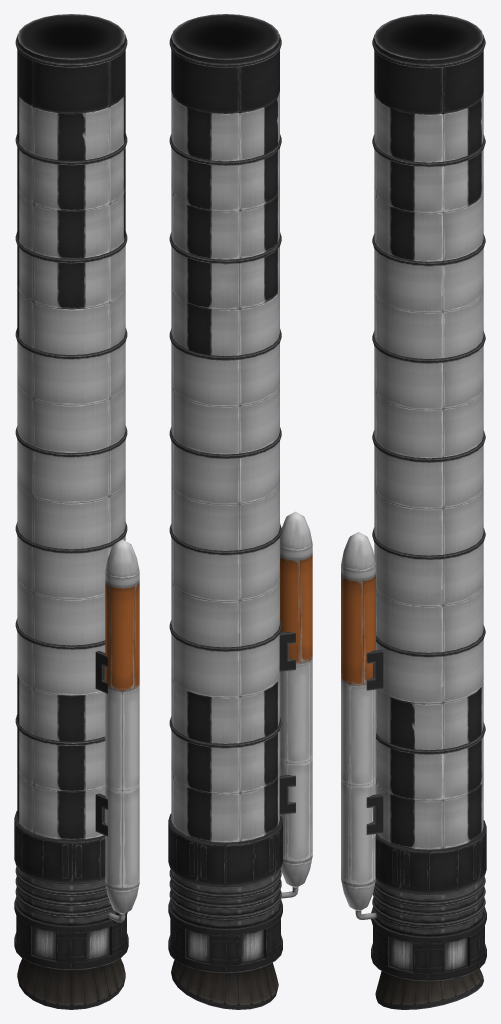
The model's file is Titan_SRB_7seg.dae.
3 views of the same model, side by side, from view 1: azimuth 90°, elevation 25°; view 2: azimuth 150°, elevation 25°; view 3: azimuth 330°, elevation 25° (orthographic).
Parts seen in each view (by area): view 1: TVC_Tank, BellCasing, Booster_Segment, Booster_Segment7, Booster_Segment1, Booster_Segment6, Booster_Segment2, Booster_Segment3, Booster_Segment5, Booster_Segment4, Cap, Nozzle (+12 smaller); view 2: BellCasing, Booster_Segment, TVC_Tank, Booster_Segment5, Booster_Segment7, Booster_Segment1, Booster_Segment4, Booster_Segment2, Booster_Segment6, Booster_Segment3, Cap, Nozzle (+12 smaller); view 3: BellCasing, TVC_Tank, Booster_Segment, Booster_Segment7, Booster_Segment1, Booster_Segment2, Booster_Segment6, Booster_Segment3, Booster_Segment5, Booster_Segment4, Cap, Nozzle (+12 smaller).
Boxes of the visible parts, box(x1,y1,x2,y2) form: TVC_Tank: box(105, 539, 139, 914); BellCasing: box(14, 811, 128, 970); Booster_Segment: box(15, 133, 127, 258); Booster_Segment7: box(17, 342, 125, 453); Booster_Segment1: box(17, 50, 125, 160); Booster_Segment6: box(17, 246, 125, 354); Booster_Segment2: box(17, 440, 125, 549); Booster_Segment3: box(17, 536, 125, 645); Booster_Segment5: box(17, 729, 105, 840); Booster_Segment4: box(17, 632, 105, 741); Cap: box(17, 14, 125, 63); Nozzle: box(17, 958, 125, 1009); BellCasing: box(168, 813, 282, 973); Booster_Segment: box(169, 134, 281, 259); TVC_Tank: box(280, 511, 312, 887); Booster_Segment5: box(171, 731, 279, 842); Booster_Segment7: box(171, 343, 279, 454); Booster_Segment1: box(171, 50, 279, 161); Booster_Segment4: box(171, 634, 279, 743); Booster_Segment2: box(171, 441, 279, 550); Booster_Segment6: box(171, 247, 279, 356); Booster_Segment3: box(171, 538, 279, 647); Cap: box(171, 14, 279, 63); Nozzle: box(171, 960, 278, 1009); BellCasing: box(371, 820, 486, 981); TVC_Tank: box(341, 532, 375, 910); Booster_Segment: box(372, 134, 485, 261); Booster_Segment7: box(374, 346, 483, 458); Booster_Segment1: box(374, 51, 483, 162); Booster_Segment2: box(374, 445, 483, 555); Booster_Segment6: box(374, 249, 483, 358); Booster_Segment3: box(374, 543, 483, 652); Booster_Segment5: box(376, 737, 483, 849); Booster_Segment4: box(376, 640, 483, 750); Cap: box(374, 14, 483, 63); Nozzle: box(375, 969, 483, 1009).
Size of the model in its own units: 2.17 by 18.19 by 2.17.
